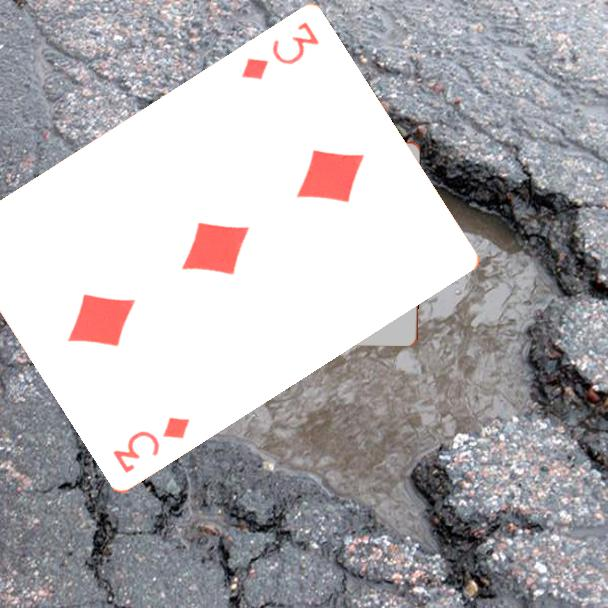d03: (237, 19, 322, 84), (109, 413, 193, 478)
